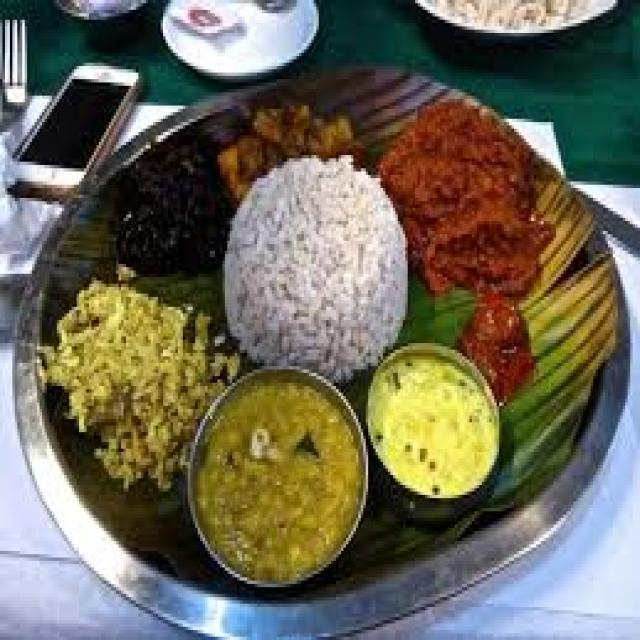dal: (200, 384, 350, 574)
rice: (214, 157, 413, 360), (39, 267, 215, 458)
roti: (413, 0, 606, 48)
veg-fry: (389, 95, 566, 313), (111, 141, 224, 282)
